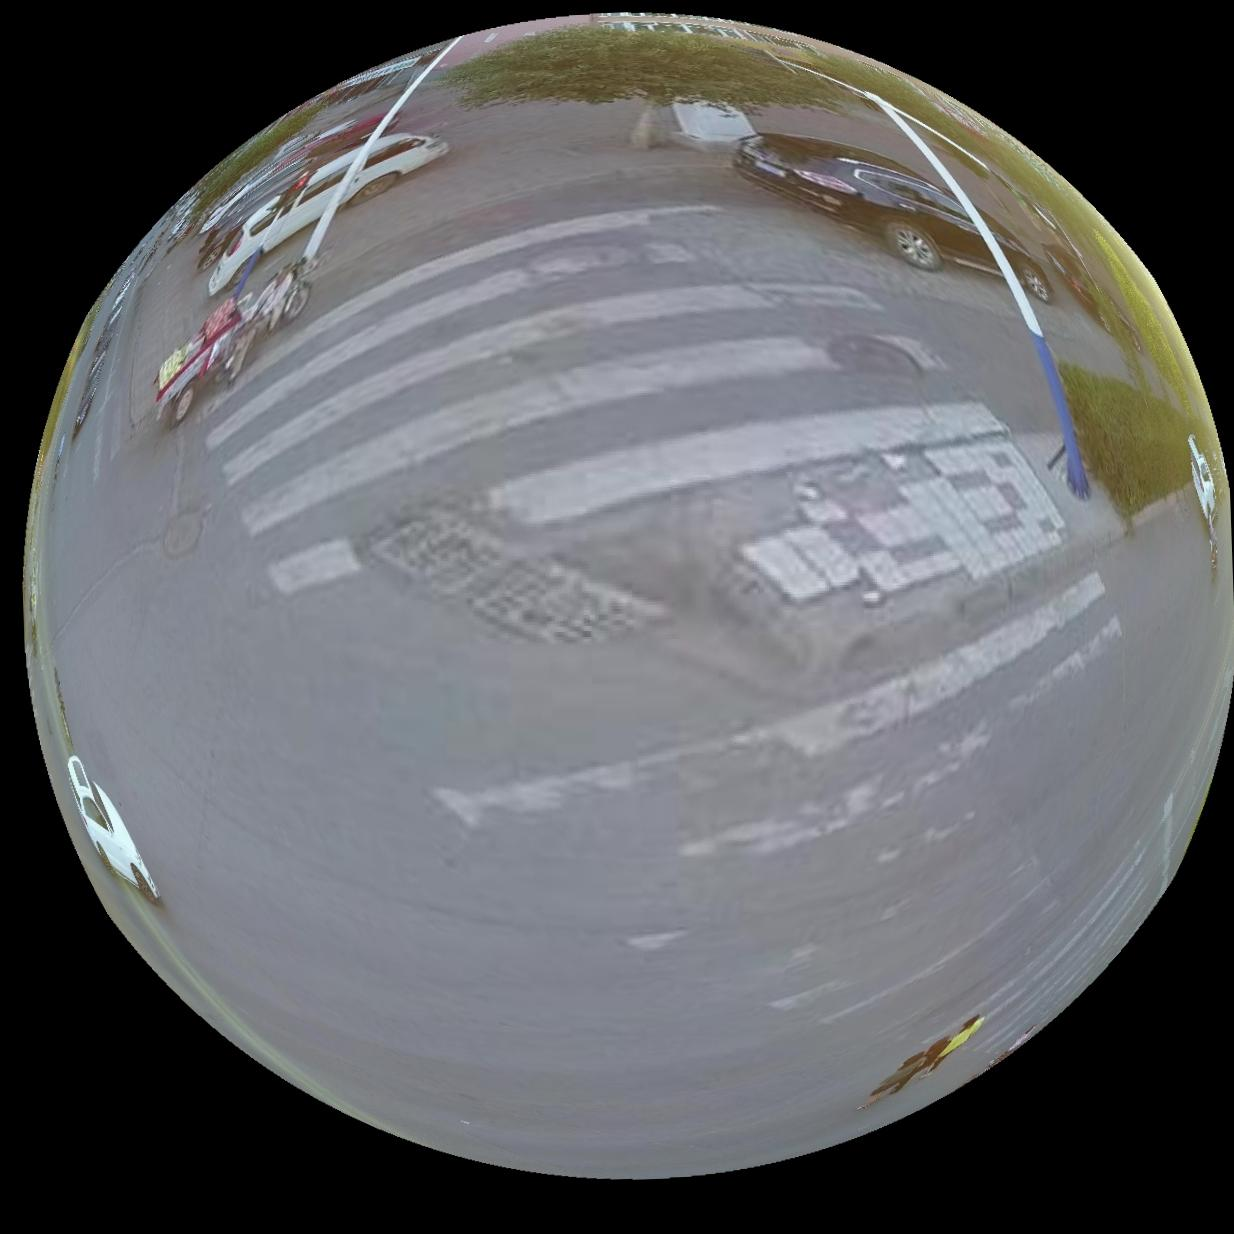cars: (207, 132, 446, 295), (735, 131, 1000, 273), (154, 263, 307, 422), (64, 757, 156, 903), (992, 223, 1054, 302)
